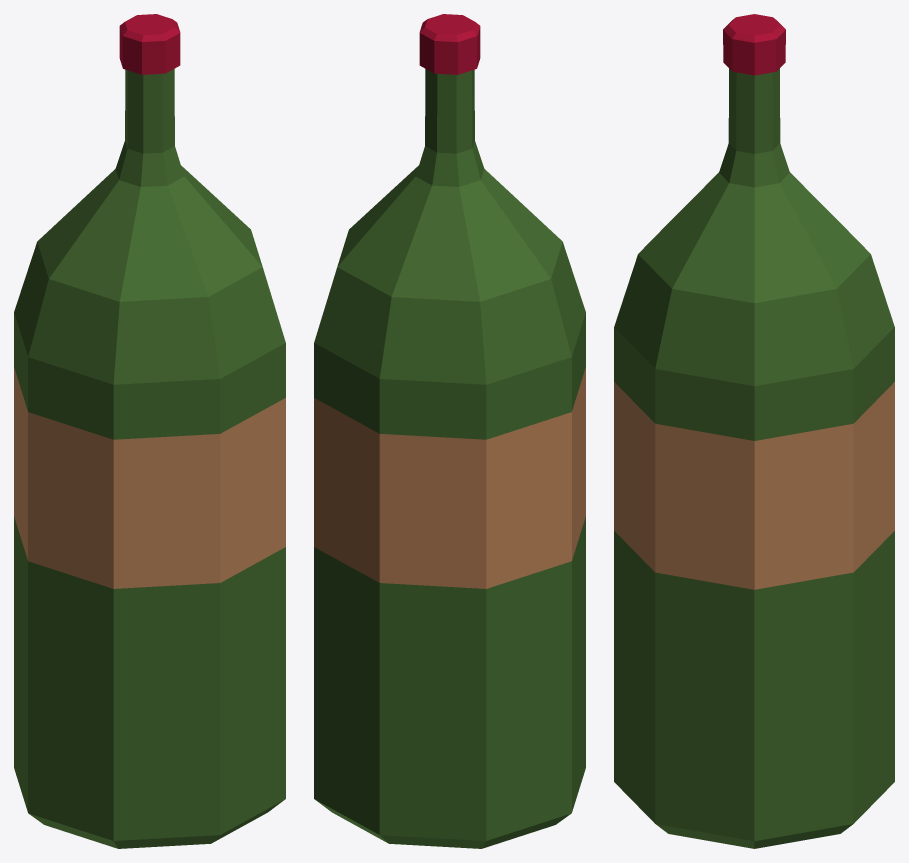
Rendered from bouteilleVIn.fbx.
3 views of the same model, side by side, from view 1: azimuth 30°, elevation 25°; view 2: azimuth 150°, elevation 25°; view 3: azimuth 270°, elevation 25° (orthographic).
Parts seen in each view (by area): view 1: Cylinder.013; view 2: Cylinder.013; view 3: Cylinder.013.
Part boxes in pixels (x1,y1,x2,y2): Cylinder.013: (14,14,285,848); Cylinder.013: (314,14,585,848); Cylinder.013: (614,14,894,848).
Size of the model in its own units: 59.06 by 179 by 59.06.
1 material, 1 textured.
